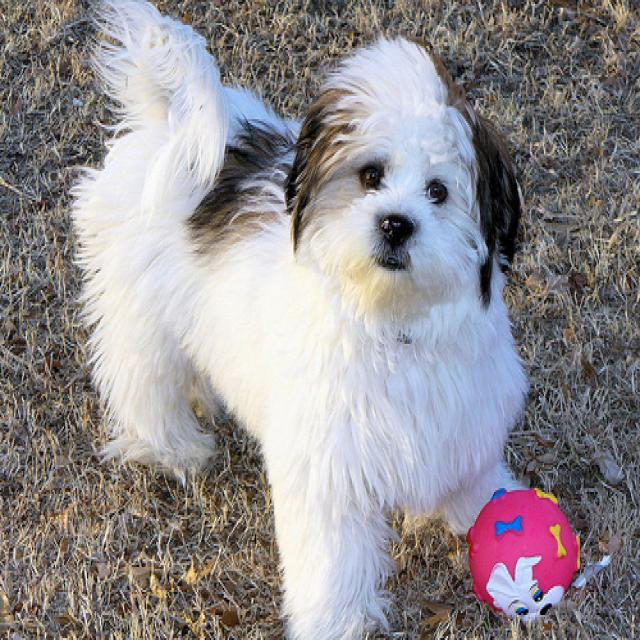dog-havanese: (67, 2, 541, 636)
